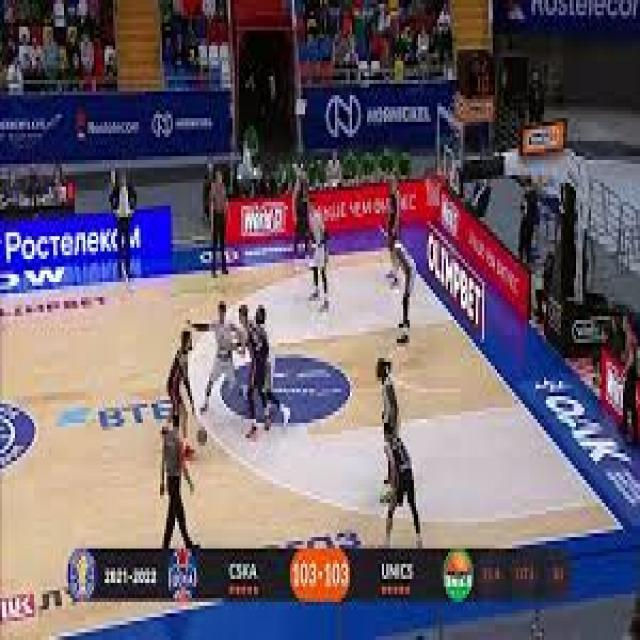rim: (196, 426, 206, 446)
